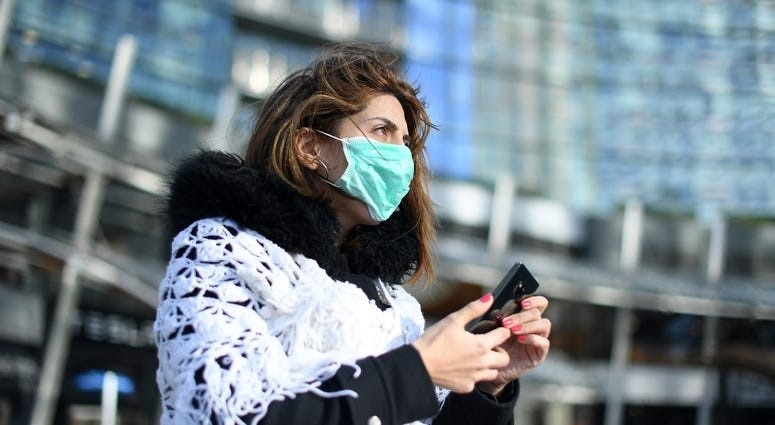face_with_mask: (266, 44, 422, 234)
